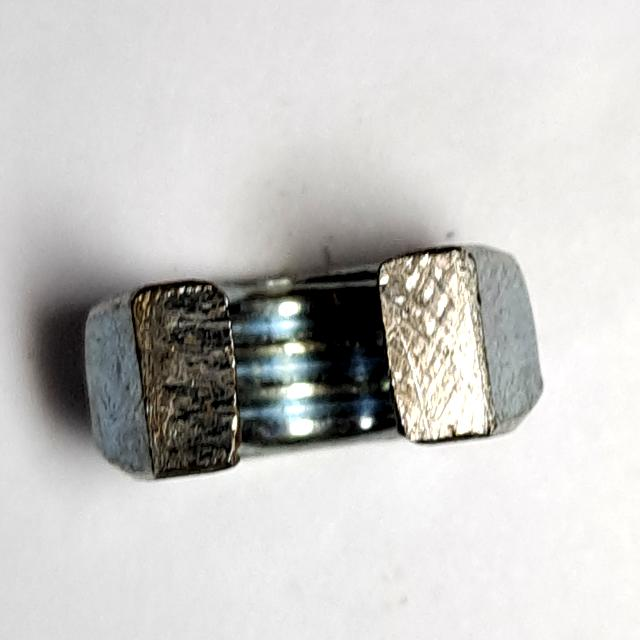Side-Fracture: (75, 226, 563, 503)
